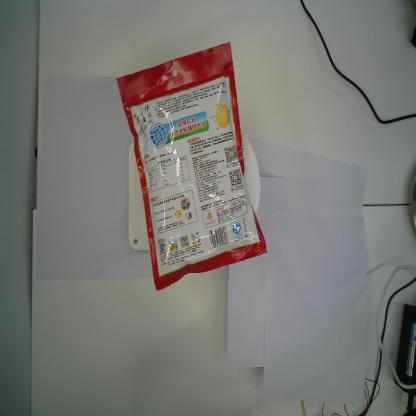Instant Drink: (117, 40, 268, 292)
